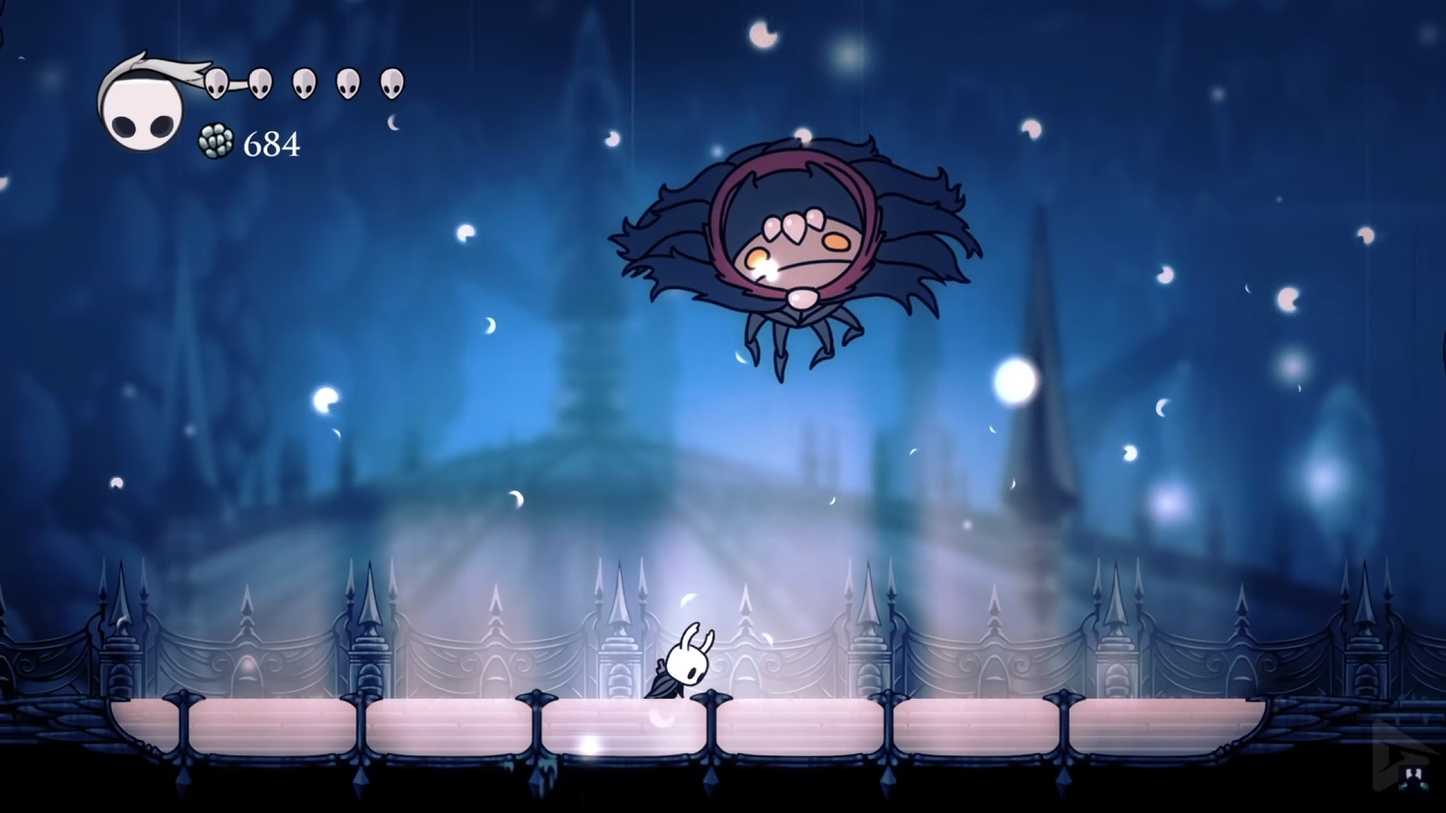HK: (649, 622, 715, 706)
